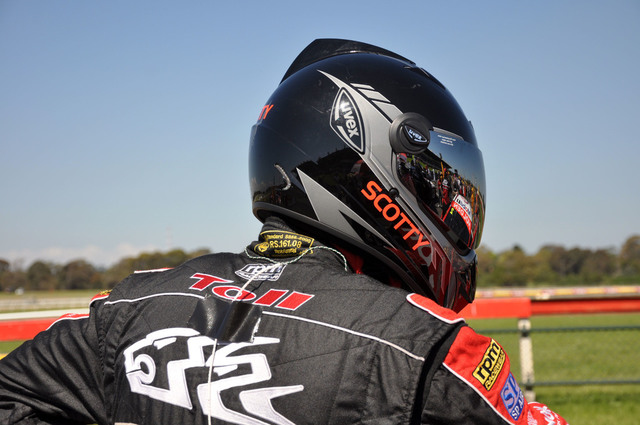helmet: (251, 28, 497, 291)
